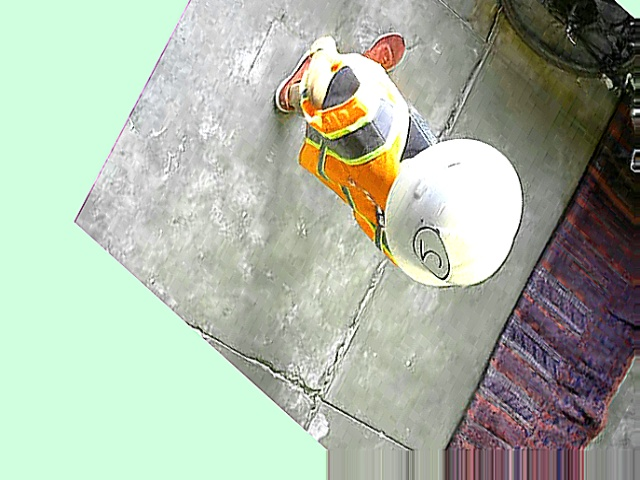two: (406, 218, 461, 285)
